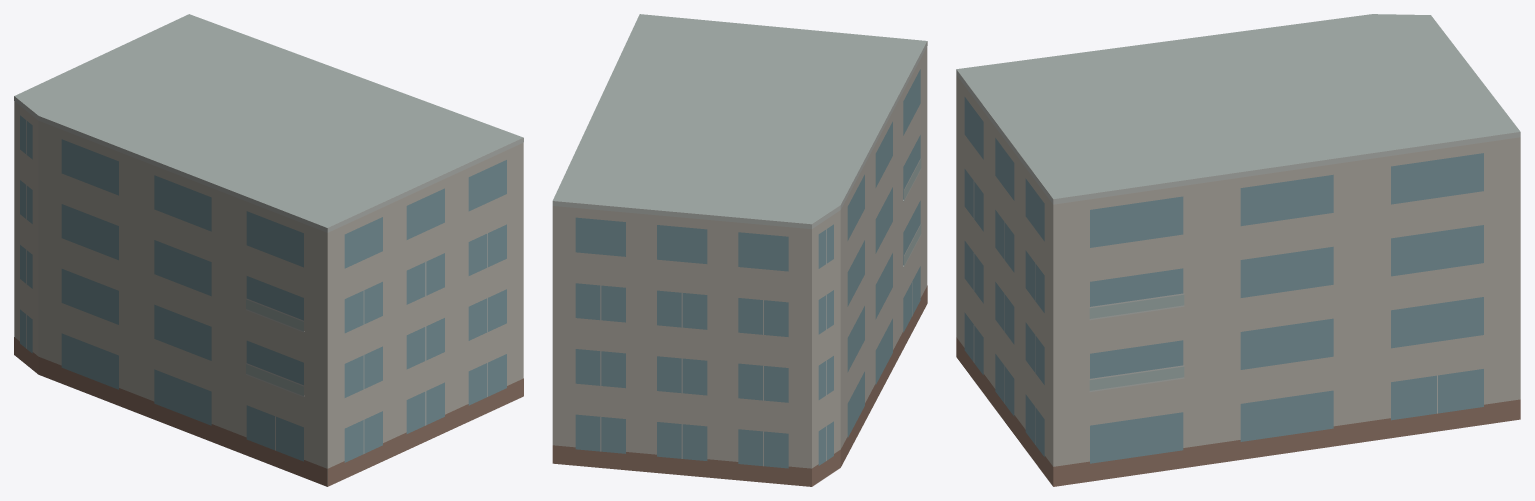
The model's file is survey-upis-33040094.glb.
The picture shows the model from 3 angles, left to right: view 1: azimuth 30°, elevation 25°; view 2: azimuth 150°, elevation 25°; view 3: azimuth 270°, elevation 25°; orthographic projection. The views are drawn at different scales.
Visible parts, largest first — view 1: survey-upis-33040094.tmp; view 2: survey-upis-33040094.tmp; view 3: survey-upis-33040094.tmp.
Boxes of the visible parts, x1,y1,x2,y2 form: survey-upis-33040094.tmp: (14,14,523,486); survey-upis-33040094.tmp: (552,14,927,486); survey-upis-33040094.tmp: (956,14,1520,486).
Size of the model in its own units: 17.89 by 12.95 by 23.04.
